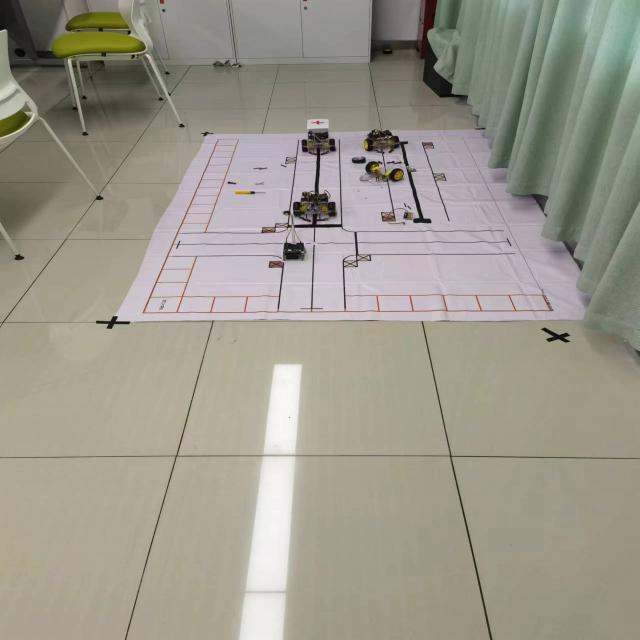RedCross: (309, 120, 326, 126)
